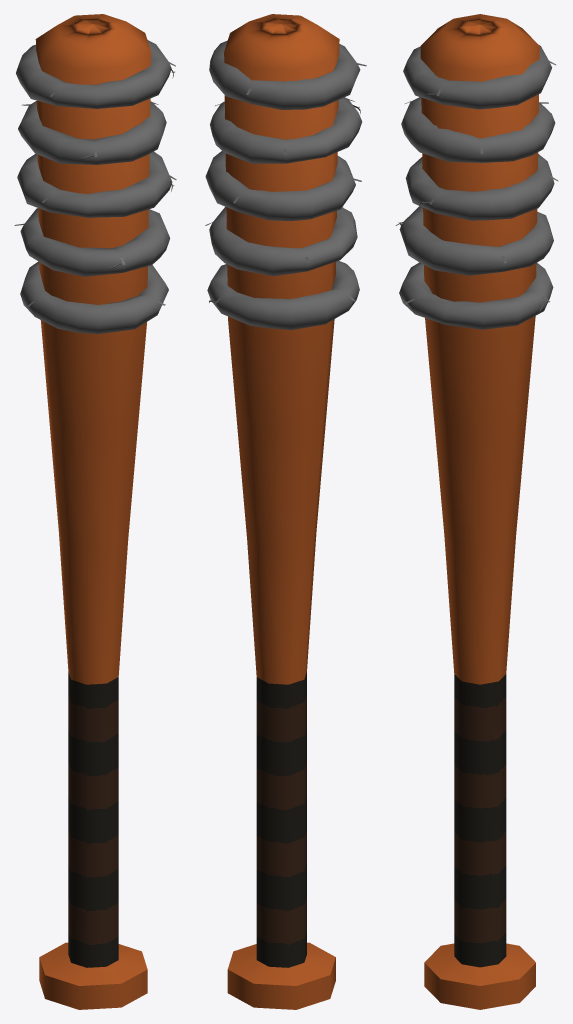
Rendered from WiredBaseballBat.fbx.
3 renders of one model, left to right at view 1: azimuth 30°, elevation 25°; view 2: azimuth 150°, elevation 25°; view 3: azimuth 270°, elevation 25°, orthographic.
Visible parts, largest first — view 1: BaseballBat; view 2: BaseballBat; view 3: BaseballBat.
Boxes of the visible parts, x1,y1,x2,y2 form: BaseballBat: [14, 14, 176, 1009]; BaseballBat: [205, 14, 366, 1009]; BaseballBat: [395, 14, 558, 1009].
Bounding box in the file's own units: 0.073 × 0.4931 × 0.0758.
